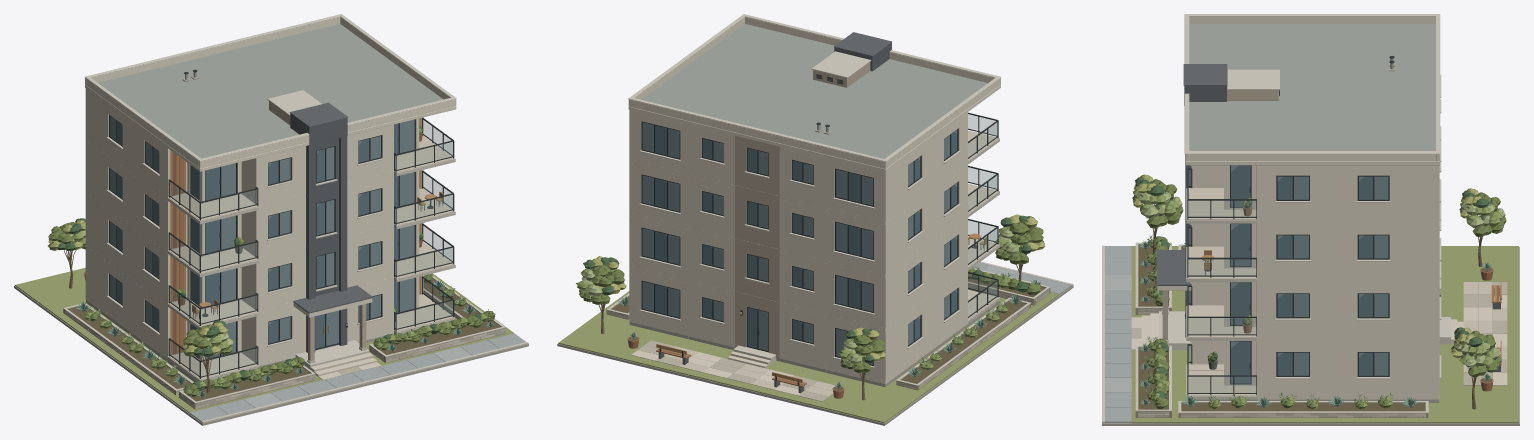
File: residencial_2_2.fbx
The picture shows the model from 3 angles, left to right: view 1: azimuth 30°, elevation 25°; view 2: azimuth 150°, elevation 25°; view 3: azimuth 270°, elevation 25°; orthographic projection. The views are drawn at different scales.
Visible parts, largest first — view 1: Azotea y pretiles, Muros exteriores.002, Muros exteriores.001, Muros exteriores.003, Muros exteriores, Jardineras de piedra, Parcela 20 x 20, Andadores y bancos, Macizos y plantas, Panos y reflejos.002, Panos y reflejos.003, Panos y reflejos.001 (+23 smaller); view 2: Azotea y pretiles, Muros exteriores.001, Muros exteriores.002, Muros exteriores.003, Muros exteriores, Parcela 20 x 20, Andadores y bancos, Arbolado, Panos y reflejos.001, Panos y reflejos.002, Panos y reflejos.003, Jardineras de piedra (+15 smaller); view 3: Azotea y pretiles, Parcela 20 x 20, Muros exteriores.001, Muros exteriores.002, Muros exteriores, Muros exteriores.003, Andadores y bancos, Jardineras de piedra, Arbolado, Macizos y plantas, Portico y acceso comun, Terrazas y entrepiso.001 (+19 smaller).
Boxes of the visible parts, left/top/right/bottom form: Azotea y pretiles: left=85, top=14, right=456, bottom=171; Muros exteriores.002: left=85, top=141, right=423, bottom=257; Muros exteriores.001: left=85, top=194, right=423, bottom=310; Muros exteriores.003: left=85, top=88, right=423, bottom=204; Muros exteriores: left=85, top=247, right=423, bottom=363; Jardineras de piedra: left=63, top=275, right=505, bottom=409; Parcela 20 x 20: left=14, top=267, right=528, bottom=425; Andadores y bancos: left=84, top=271, right=528, bottom=423; Macizos y plantas: left=76, top=270, right=495, bottom=397; Panos y reflejos.002: left=110, top=169, right=414, bottom=253; Panos y reflejos.003: left=110, top=116, right=414, bottom=200; Panos y reflejos.001: left=110, top=222, right=414, bottom=304; Azotea y pretiles: left=628, top=14, right=1001, bottom=172; Muros exteriores.001: left=629, top=216, right=967, bottom=327; Muros exteriores.002: left=629, top=162, right=967, bottom=274; Muros exteriores.003: left=629, top=110, right=967, bottom=221; Muros exteriores: left=629, top=269, right=967, bottom=381; Parcela 20 x 20: left=557, top=285, right=1073, bottom=425; Andadores y bancos: left=627, top=261, right=1073, bottom=401; Arbolado: left=576, top=214, right=1045, bottom=400; Panos y reflejos.001: left=642, top=228, right=957, bottom=311; Panos y reflejos.002: left=642, top=175, right=957, bottom=258; Panos y reflejos.003: left=642, top=122, right=957, bottom=205; Jardineras de piedra: left=606, top=268, right=1050, bottom=390; Azotea y pretiles: left=1183, top=14, right=1440, bottom=165; Parcela 20 x 20: left=1102, top=246, right=1519, bottom=425; Muros exteriores.001: left=1185, top=223, right=1439, bottom=337; Muros exteriores.002: left=1185, top=165, right=1439, bottom=278; Muros exteriores: left=1185, top=290, right=1439, bottom=396; Muros exteriores.003: left=1191, top=165, right=1439, bottom=220; Andadores y bancos: left=1102, top=245, right=1507, bottom=423; Jardineras de piedra: left=1135, top=242, right=1428, bottom=417; Arbolado: left=1132, top=174, right=1506, bottom=409; Macizos y plantas: left=1139, top=235, right=1491, bottom=409; Portico y acceso comun: left=1141, top=250, right=1463, bottom=349; Terrazas y entrepiso.001: left=1186, top=305, right=1439, bottom=340.
Size of the model in its own units: 20 by 13.91 by 20.
